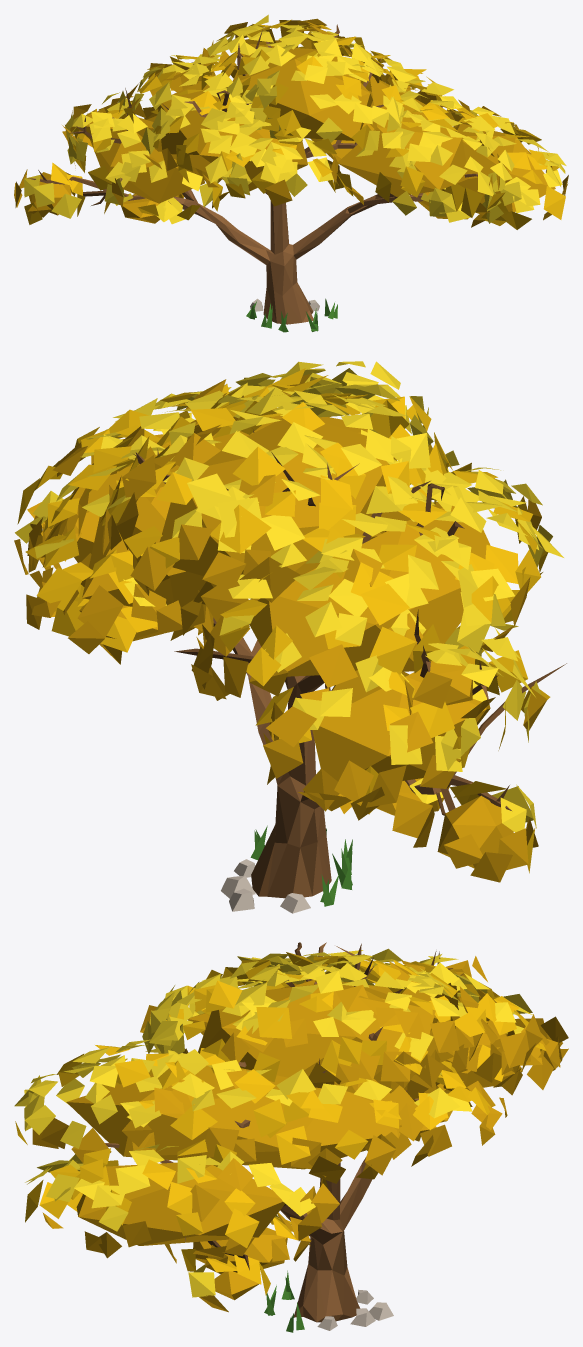
File: guayacan_1_bloom.glb
The picture shows the model from 3 angles, top to bottom: view 1: azimuth 30°, elevation 25°; view 2: azimuth 150°, elevation 25°; view 3: azimuth 270°, elevation 25°; orthographic projection. The views are drawn at different scales.
Visible parts, largest first — view 1: guayacan_1_bloom; view 2: guayacan_1_bloom; view 3: guayacan_1_bloom.
Part boxes in pixels (x1,y1,x2,y2): guayacan_1_bloom: [14, 14, 568, 332]; guayacan_1_bloom: [14, 361, 566, 913]; guayacan_1_bloom: [14, 942, 568, 1332].
Size of the model in its own units: 9.59 by 6.21 by 8.88.
